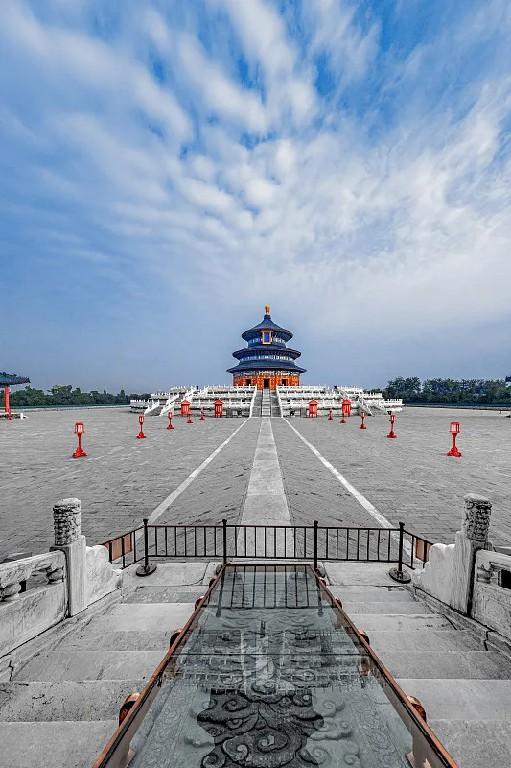Heaven: (226, 304, 306, 390)
